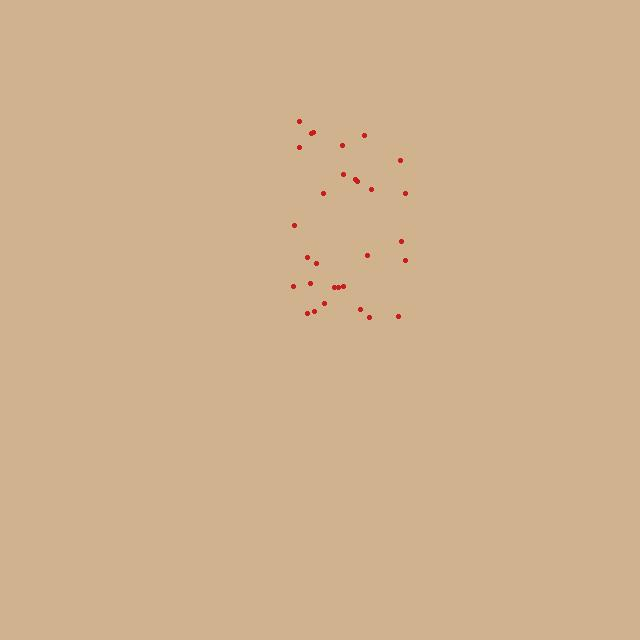abrasion: (282, 120, 406, 318)
